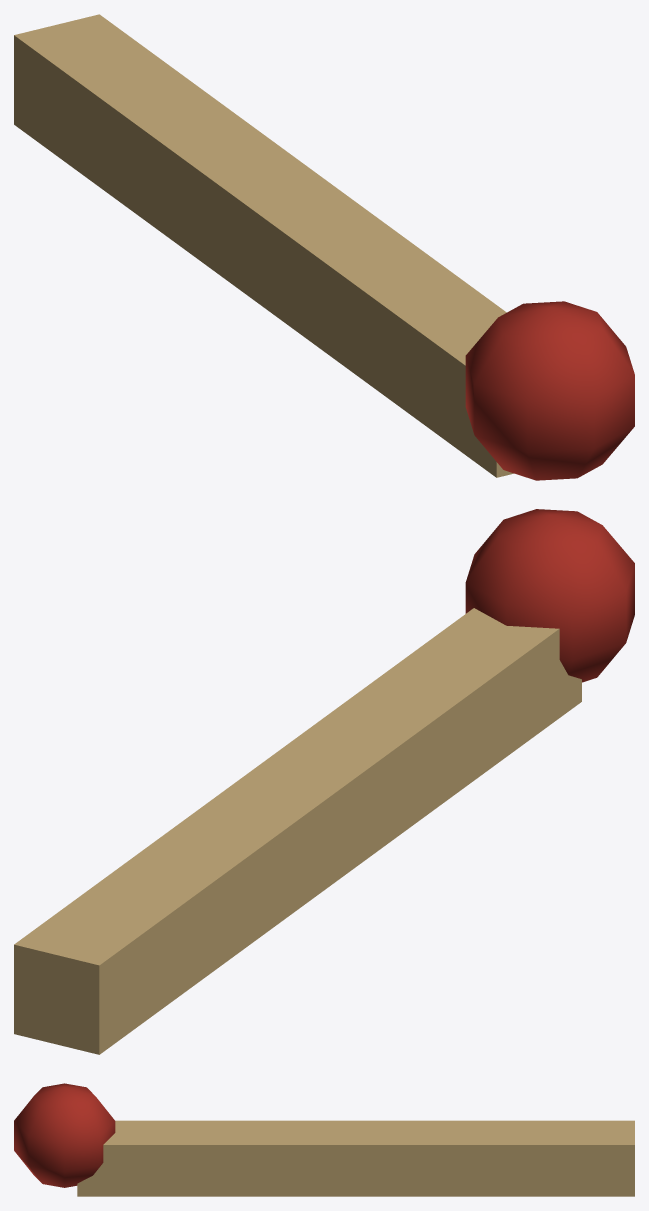
The model's file is Hut_Match.fbx.
3 renders of one model, top to bottom at view 1: azimuth 30°, elevation 25°; view 2: azimuth 150°, elevation 25°; view 3: azimuth 270°, elevation 25°, orthographic. The views are drawn at different scales.
Parts seen in each view (by area): view 1: Hut_Match; view 2: Hut_Match; view 3: Hut_Match.
Part boxes in pixels (x1,y1,x2,y2): Hut_Match: [14, 14, 634, 480]; Hut_Match: [14, 509, 634, 1054]; Hut_Match: [14, 1083, 634, 1196].
Size of the model in its own units: 0.3595 by 0.3802 by 2.2.
